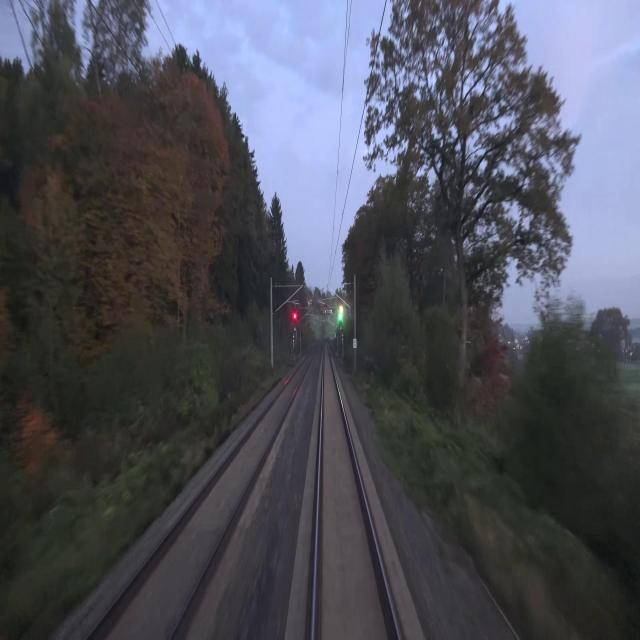rail-track: (314, 346, 397, 639)
